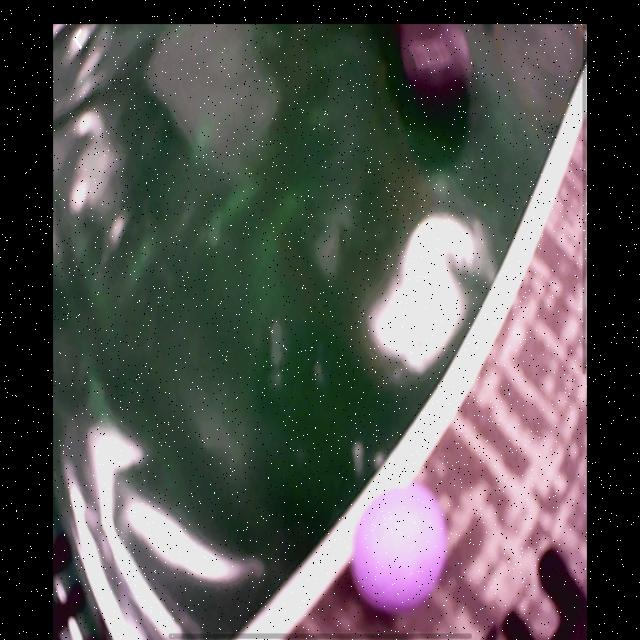ball: (353, 488, 447, 613)
